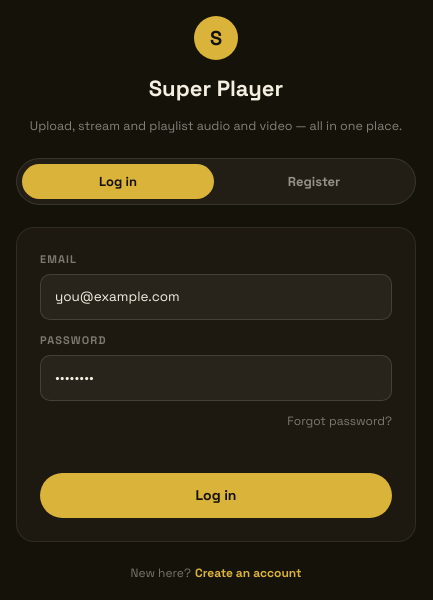
it: AuthPage › switches to register mode via the footer prompt, kept in sync with the tabs
Click the button "Create an account": (248, 573) [195, 564, 302, 582]
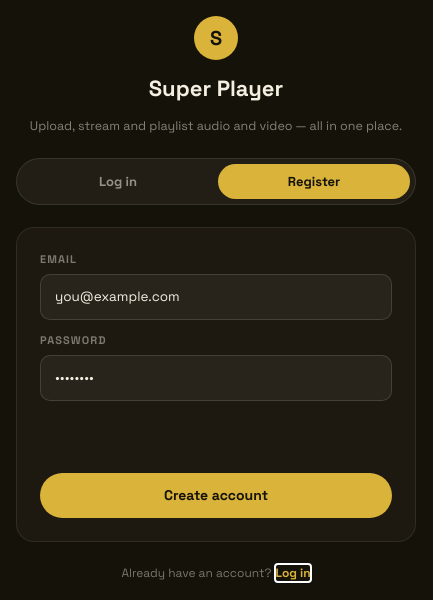
Result: the button "Create account" is shown at [40, 473, 392, 518]
